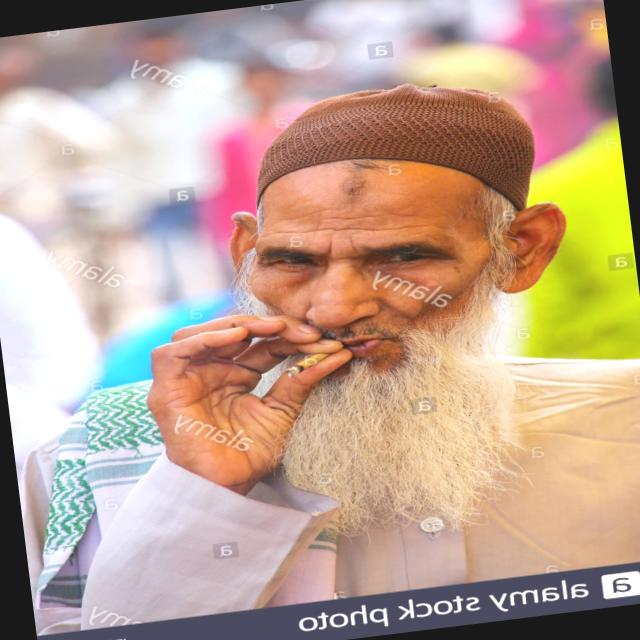smoke: (264, 336, 346, 388)
